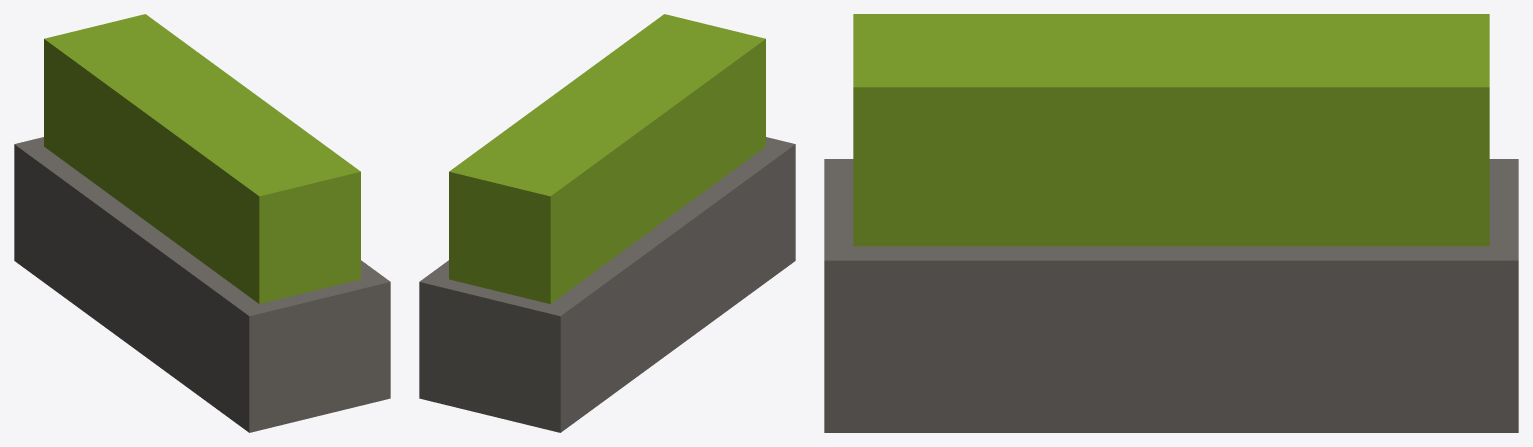
The model's file is dec plant3.FBX.
The picture shows the model from 3 angles, left to right: view 1: azimuth 30°, elevation 25°; view 2: azimuth 150°, elevation 25°; view 3: azimuth 270°, elevation 25°; orthographic projection. The views are drawn at different scales.
Visible parts, largest first — view 1: dec plant3; view 2: dec plant3; view 3: dec plant3.
Part boxes in pixels (x1=…): dec plant3: x1=14, y1=14, x2=390, y2=432; dec plant3: x1=419, y1=14, x2=795, y2=432; dec plant3: x1=824, y1=14, x2=1518, y2=432.
Size of the model in its own units: 1.45 by 2.2 by 4.18.
